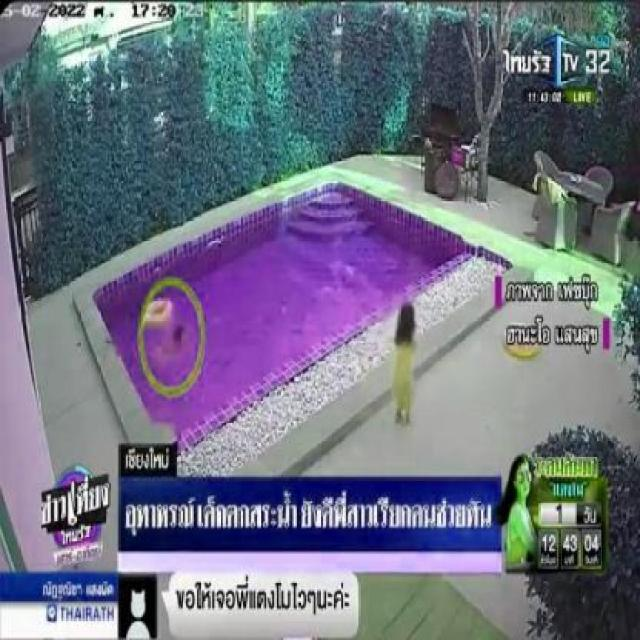drowning: (150, 327, 195, 367)
